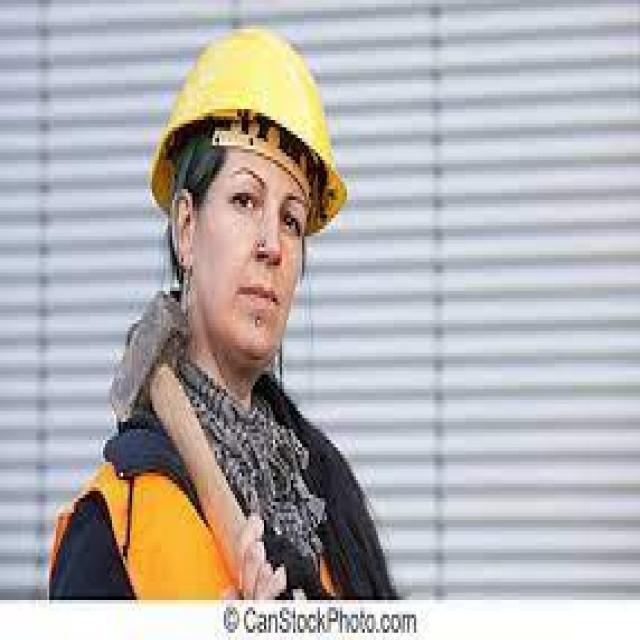hammer: (107, 284, 286, 604)
